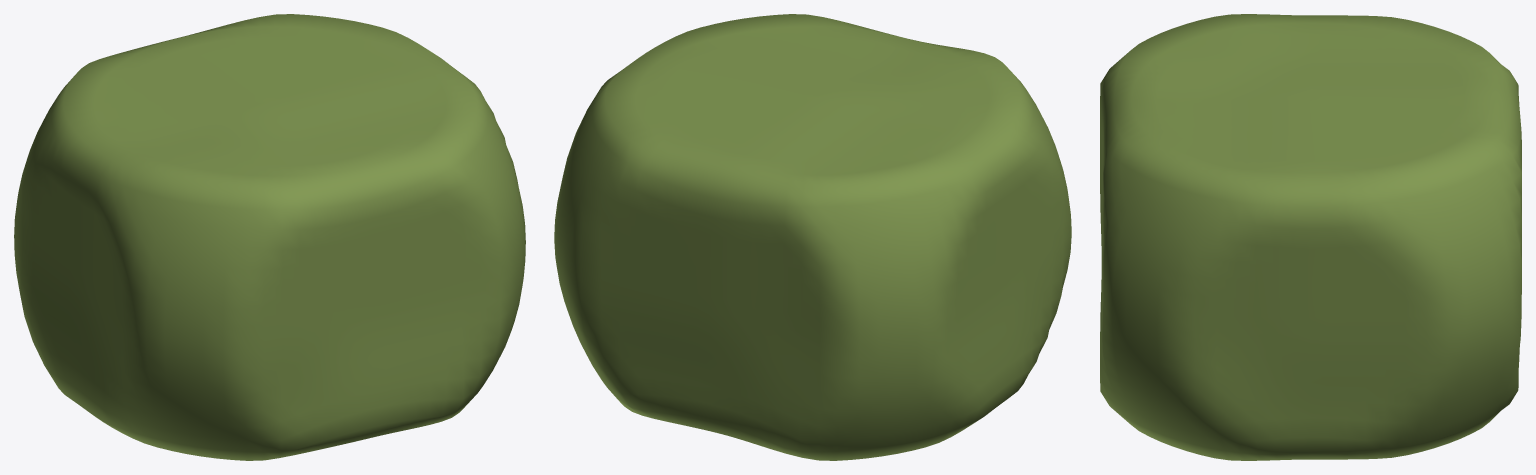
Rendered from plant-shells.glb.
3 views of the same model, side by side, from view 1: azimuth 30°, elevation 25°; view 2: azimuth 150°, elevation 25°; view 3: azimuth 270°, elevation 25° (orthographic). The views are drawn at different scales.
Visible parts, largest first — view 1: wall; view 2: wall; view 3: wall.
Part boxes in pixels (x1,y1,x2,y2): wall: [14, 14, 525, 460]; wall: [554, 14, 1071, 460]; wall: [1100, 14, 1521, 460].
Bounding box in the file's own units: 5.79 × 3.94 × 5.34.
